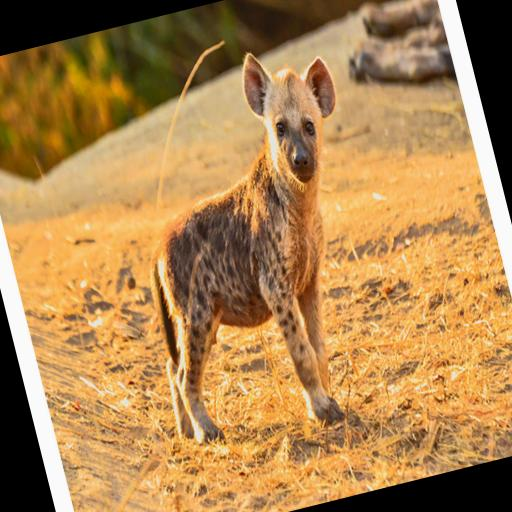hyenas: (89, 24, 429, 479)
